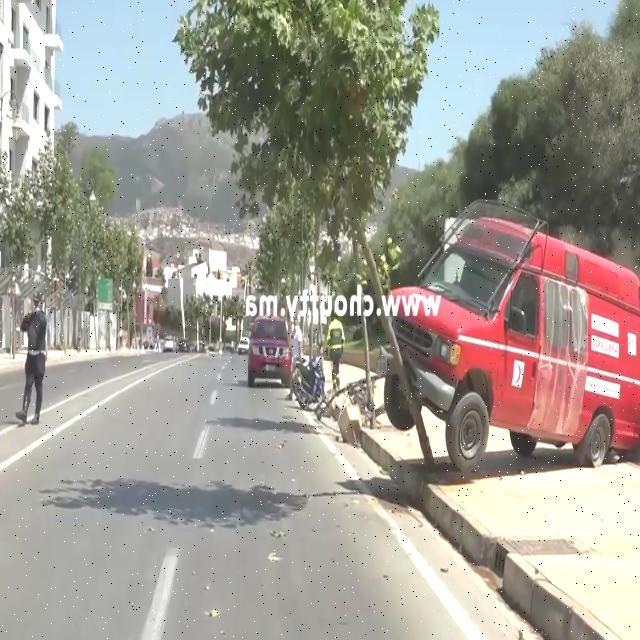ambulance: (380, 214, 640, 474)
